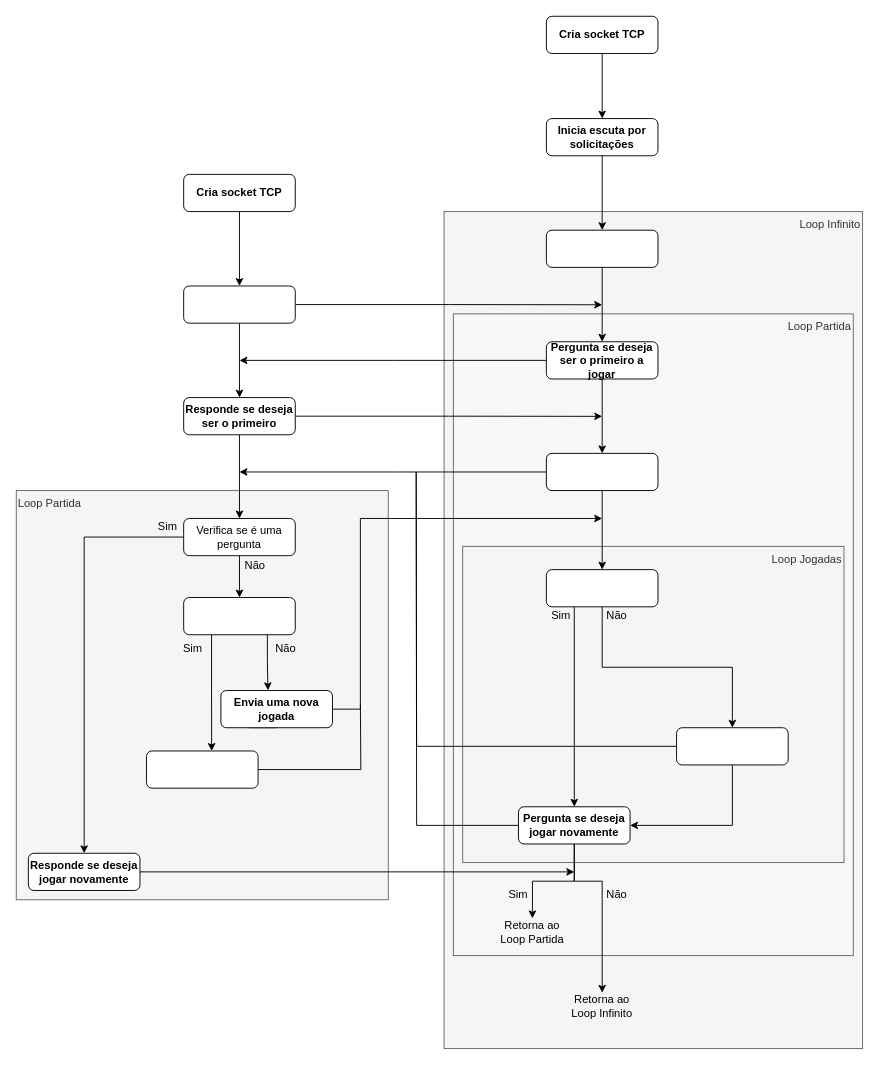
The diagram is 879 pixels wide and 1065 high, and some of its shapes have lost their labels. Here are the shapes that lost their labels. From the top down, the centre of each, then its label:
(x=601, y=248): Espera por solicitaçoes
(x=239, y=304): Conecta ao servidor
(x=601, y=471): Envia primeira jogada ou tabuleiro vazio
(x=601, y=588): Verifica se alguém venceu ou deu 'velha'
(x=239, y=616): Verifica se o servidor venceu ou deu 'velha'
(x=732, y=746): Envia nova uma jogada
(x=202, y=769): Reenvia a jogada do servidor
